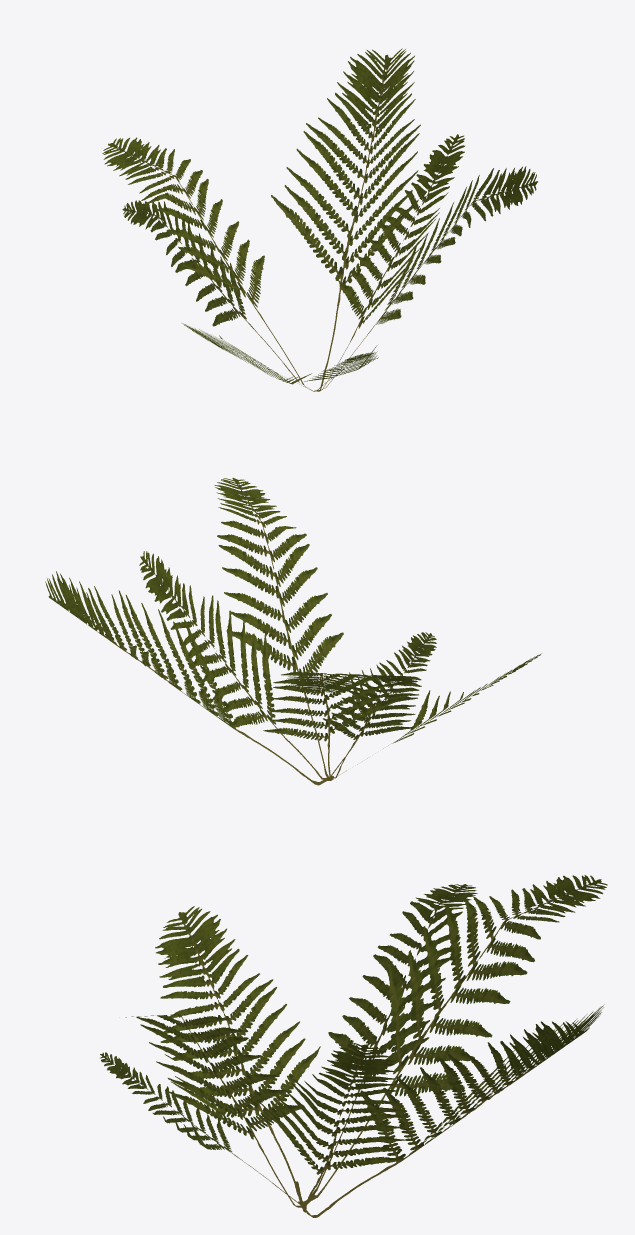
The model's file is Fern01.fbx.
3 renders of one model, top to bottom at view 1: azimuth 30°, elevation 25°; view 2: azimuth 150°, elevation 25°; view 3: azimuth 270°, elevation 25°, orthographic. The views are drawn at different scales.
Parts seen in each view (by area): view 1: Fern01; view 2: Fern01; view 3: Fern01.
Part boxes in pixels (x1,y1,x2,y2): Fern01: (102,48,537,391); Fern01: (45,477,541,785); Fern01: (100,875,607,1217).
Size of the model in its own units: 161 by 100 by 161.
